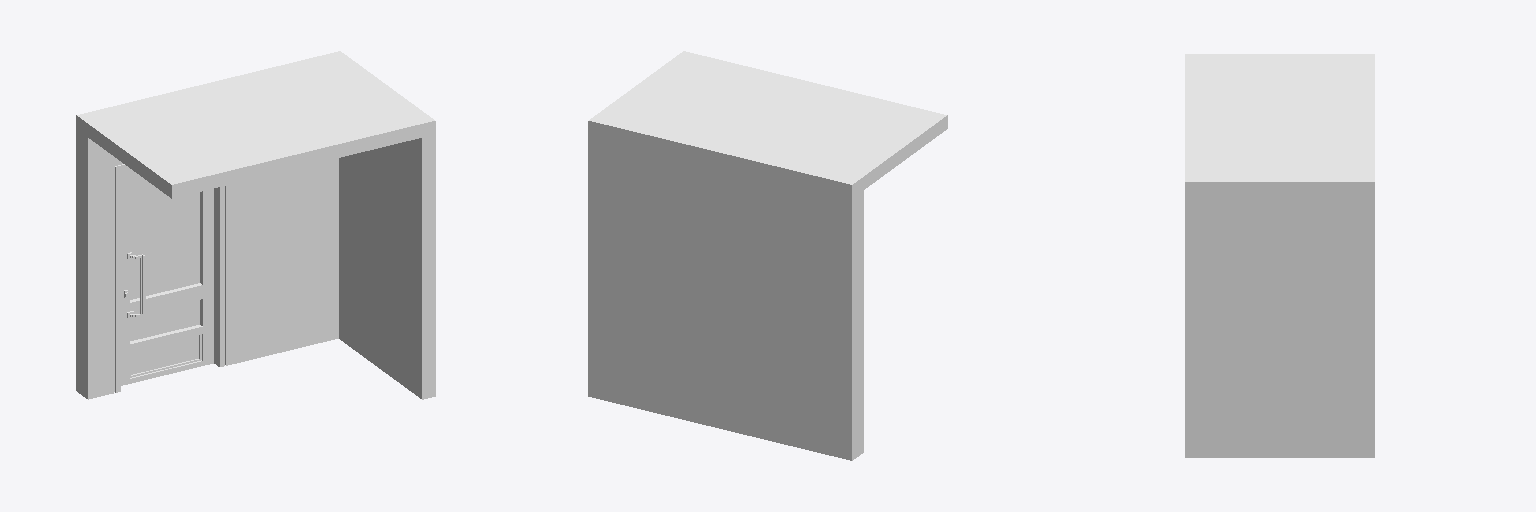
Rendered from entrance5-2-lod1.obj.
3 views of the same model, side by side, from view 1: azimuth 30°, elevation 25°; view 2: azimuth 150°, elevation 25°; view 3: azimuth 270°, elevation 25° (orthographic).
Visible parts, largest first — view 1: lod1; view 2: lod1; view 3: lod1.
Part boxes in pixels (x1,y1,x2,y2): lod1: (76, 51, 435, 399); lod1: (588, 51, 947, 460); lod1: (1185, 54, 1374, 457).
Bounding box in the file's own units: 16 × 16 × 10.